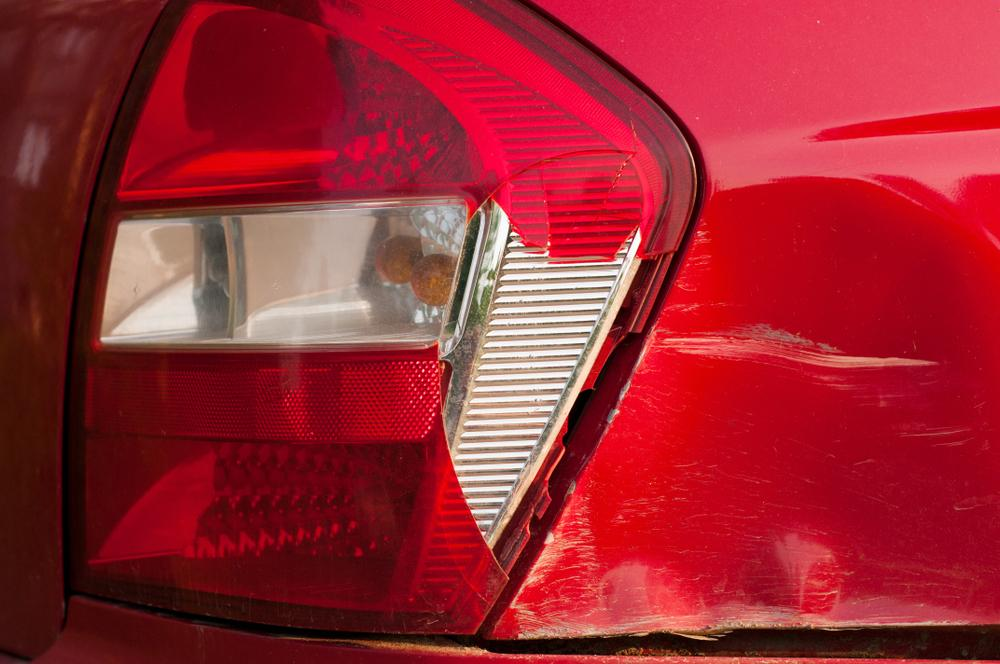dent: (495, 178, 1000, 638)
lamp broken: (59, 0, 715, 642)
